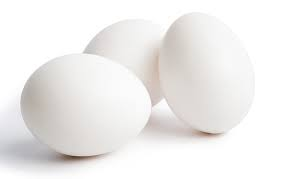eggs: (14, 49, 146, 161), (154, 3, 246, 136), (87, 17, 165, 113)
